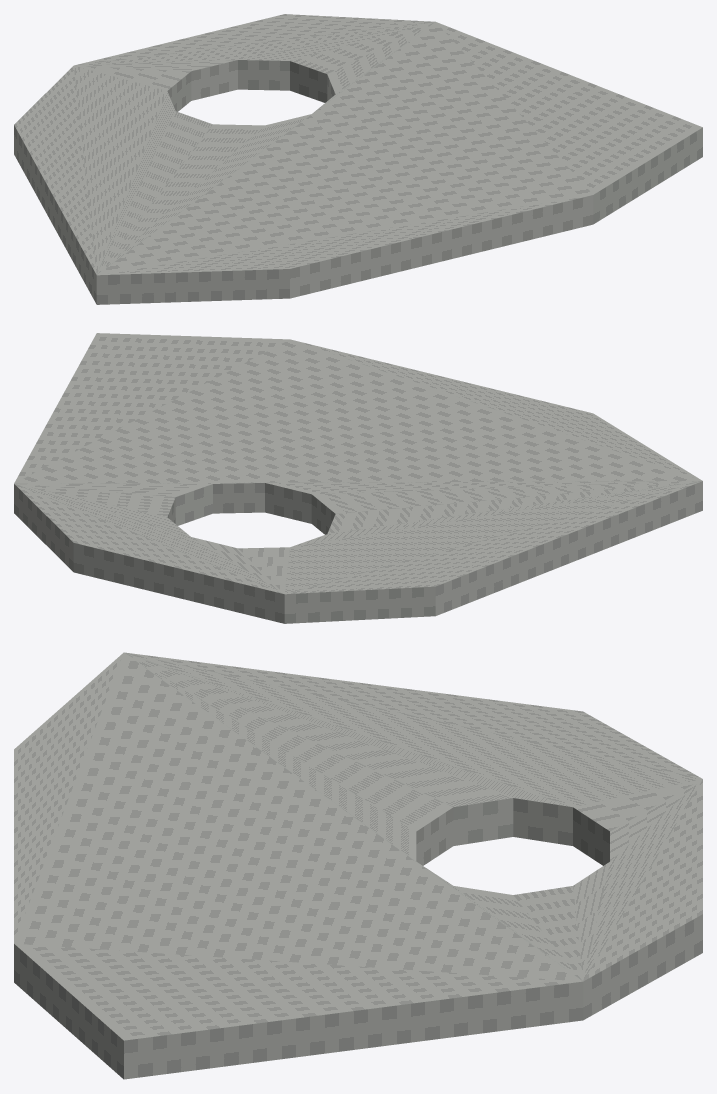
The model's file is poncho.glb.
3 views of the same model, one above another, from view 1: azimuth 30°, elevation 25°; view 2: azimuth 150°, elevation 25°; view 3: azimuth 270°, elevation 25° (orthographic). The views are drawn at different scales.
Parts seen in each view (by area): view 1: block_draped cape; view 2: block_draped cape; view 3: block_draped cape.
Boxes of the visible parts, x1=… form: block_draped cape: x1=14, y1=14, x2=702, y2=304; block_draped cape: x1=14, y1=333, x2=702, y2=623; block_draped cape: x1=14, y1=652, x2=702, y2=1079.
Size of the model in its own units: 0.5117 by 0.0239 by 0.3838.
1 material, 1 textured.
